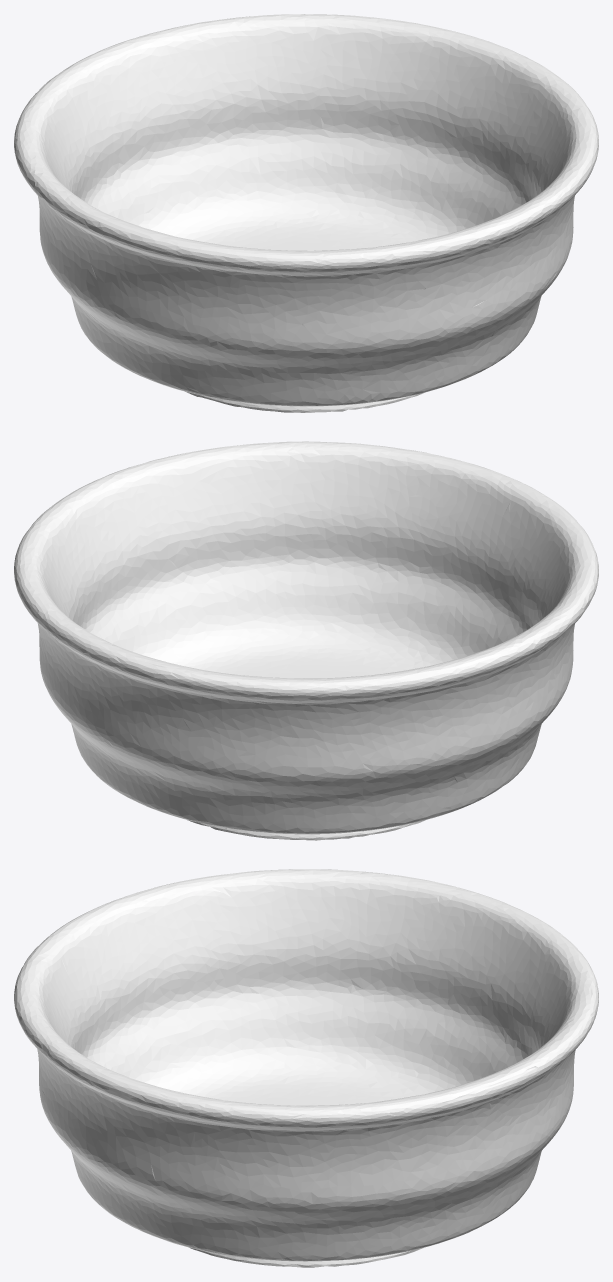
3 renders of one model, top to bottom at view 1: azimuth 30°, elevation 25°; view 2: azimuth 150°, elevation 25°; view 3: azimuth 270°, elevation 25°, orthographic.
Visible parts, largest first — view 1: world; view 2: world; view 3: world.
Boxes of the visible parts, x1=… form: world: x1=14, y1=14, x2=598, y2=412; world: x1=14, y1=441, x2=598, y2=840; world: x1=14, y1=869, x2=598, y2=1267.
Bounding box in the file's own units: 0.2831 × 0.1102 × 0.2831.
1 material, 1 textured.
